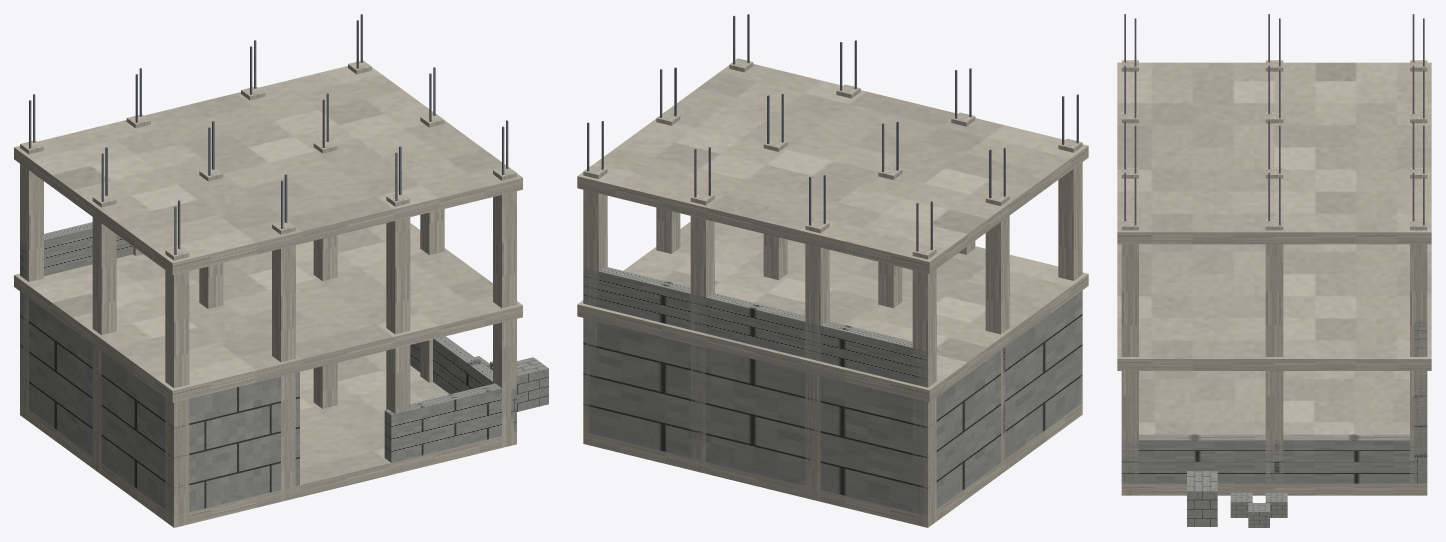
Rendered from unfinished-mint.glb.
3 views of the same model, side by side, from view 1: azimuth 30°, elevation 25°; view 2: azimuth 150°, elevation 25°; view 3: azimuth 270°, elevation 25° (orthographic).
Parts seen in each view (by area): view 1: unfinished-mint; view 2: unfinished-mint; view 3: unfinished-mint.
Boxes of the visible parts, x1=… form: unfinished-mint: x1=14, y1=14, x2=548, y2=527; unfinished-mint: x1=577, y1=14, x2=1088, y2=527; unfinished-mint: x1=1117, y1=14, x2=1431, y2=527.
Size of the model in its own units: 10.85 by 8 by 7.2.
1 material, 1 textured.
